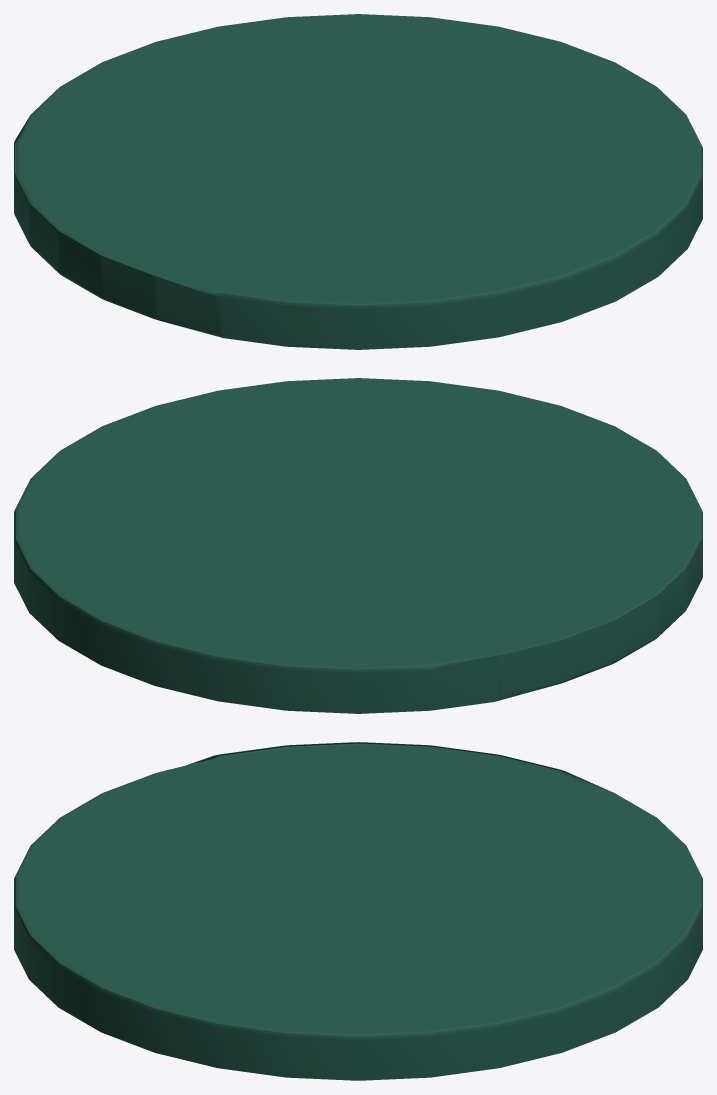
File: round_stage.fbx
3 views of the same model, one above another, from view 1: azimuth 30°, elevation 25°; view 2: azimuth 150°, elevation 25°; view 3: azimuth 270°, elevation 25° (orthographic).
Parts seen in each view (by area): view 1: round_stage; view 2: round_stage; view 3: round_stage.
Part boxes in pixels (x1,y1,x2,y2): round_stage: [14, 14, 702, 349]; round_stage: [14, 378, 702, 713]; round_stage: [14, 742, 702, 1080].
Size of the model in its own units: 637 by 46.64 by 633.
